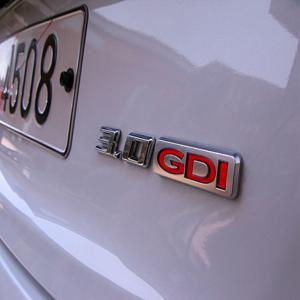Vehicle-registration-plate: (1, 7, 86, 160)
